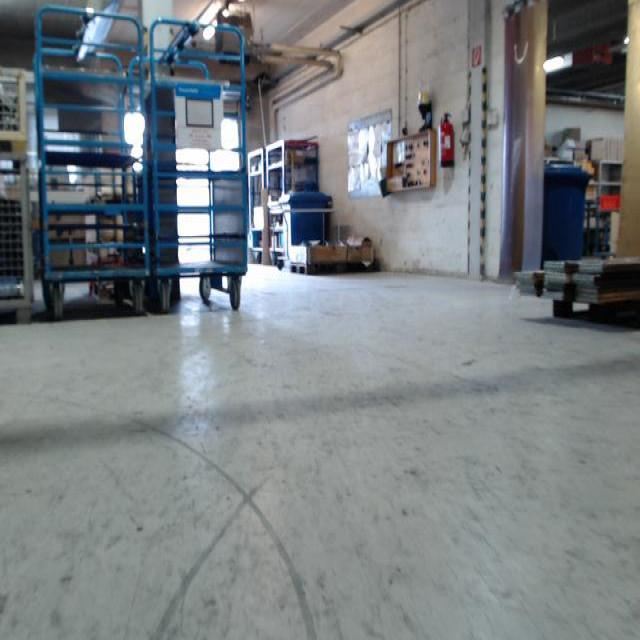pallet: (290, 262, 378, 276)
stillage: (3, 150, 36, 324), (1, 58, 38, 151)
